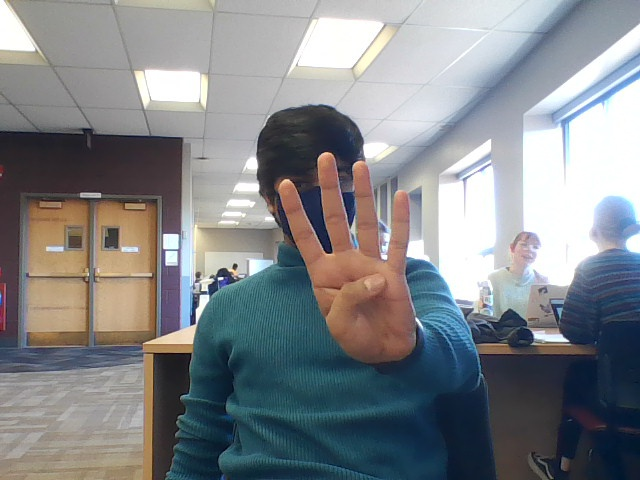four: (275, 137, 435, 384)
